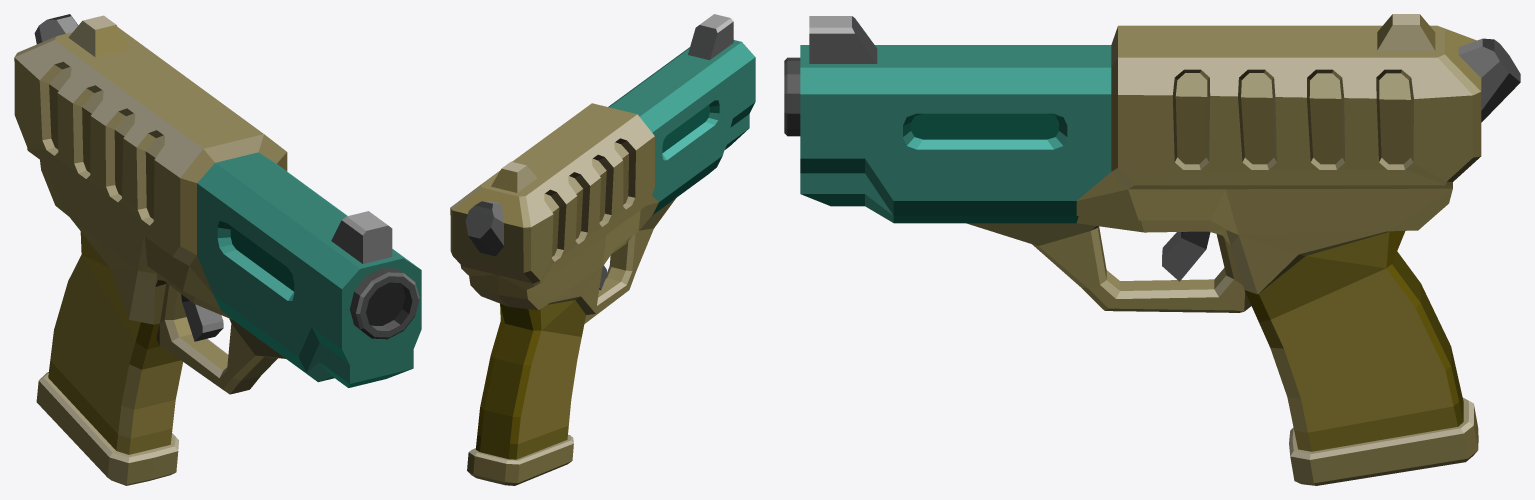
File: Cosmic_Retro_Blaster_3B.fbx
3 renders of one model, left to right at view 1: azimuth 30°, elevation 25°; view 2: azimuth 150°, elevation 25°; view 3: azimuth 270°, elevation 25°, orthographic. The views are drawn at different scales.
Visible parts, largest first — view 1: Cosmic_Retro_Blaster_3_6, Cosmic_Retro_Blaster_Trigger_3_6; view 2: Cosmic_Retro_Blaster_3_6; view 3: Cosmic_Retro_Blaster_3_6, Cosmic_Retro_Blaster_Trigger_3_6.
Part boxes in pixels (x1,y1,x2,y2): Cosmic_Retro_Blaster_3_6: (14,14,421,485); Cosmic_Retro_Blaster_Trigger_3_6: (181,294,223,341); Cosmic_Retro_Blaster_3_6: (450,14,755,485); Cosmic_Retro_Blaster_3_6: (784,14,1520,485); Cosmic_Retro_Blaster_Trigger_3_6: (1162,231,1210,281).
Size of the model in its own units: 0.0828 by 0.2973 by 0.4378.
